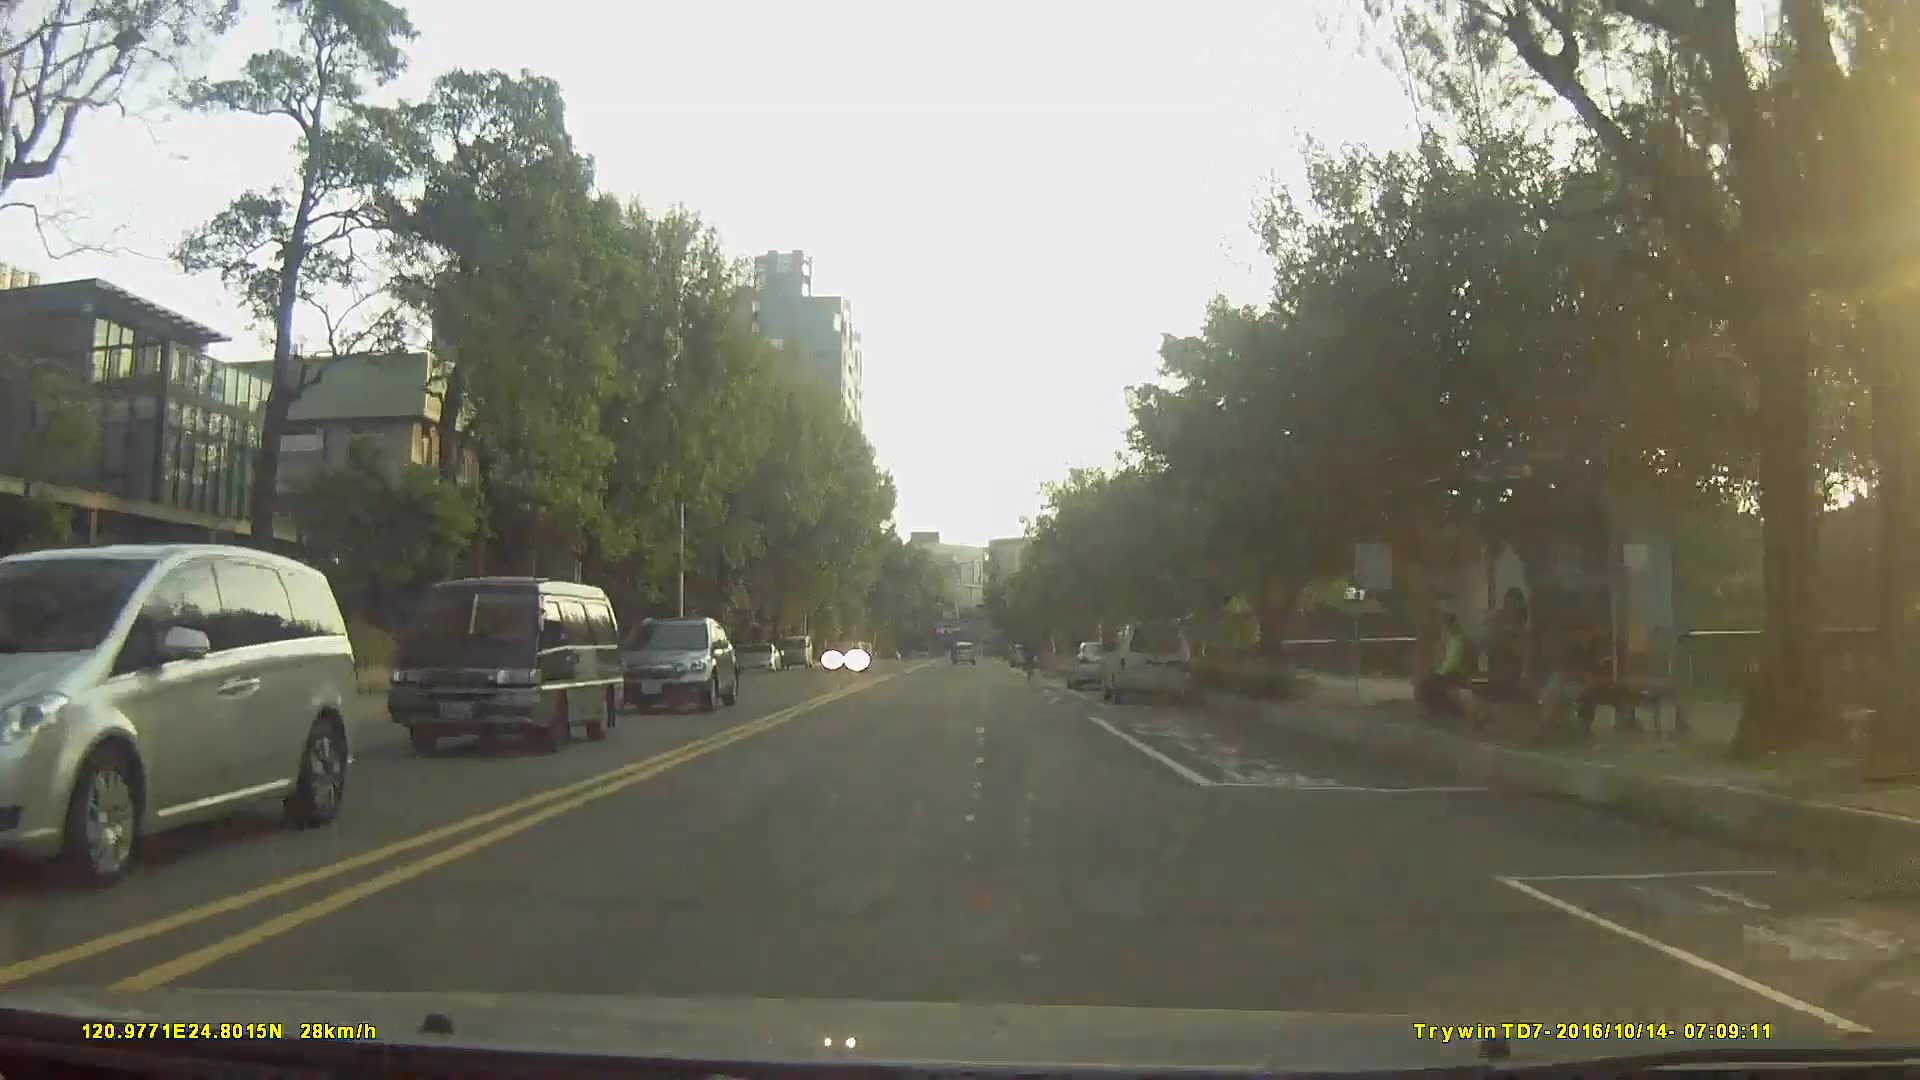pedestrian: (1462, 586, 1534, 736), (1529, 608, 1599, 747), (1425, 607, 1485, 724)
rider: (1020, 632, 1040, 687)
vehicle: (0, 541, 356, 888), (386, 572, 623, 762), (613, 617, 742, 715), (1102, 617, 1192, 704), (1066, 639, 1124, 688), (819, 636, 867, 672), (739, 642, 781, 675), (779, 633, 813, 670), (949, 640, 974, 665)
